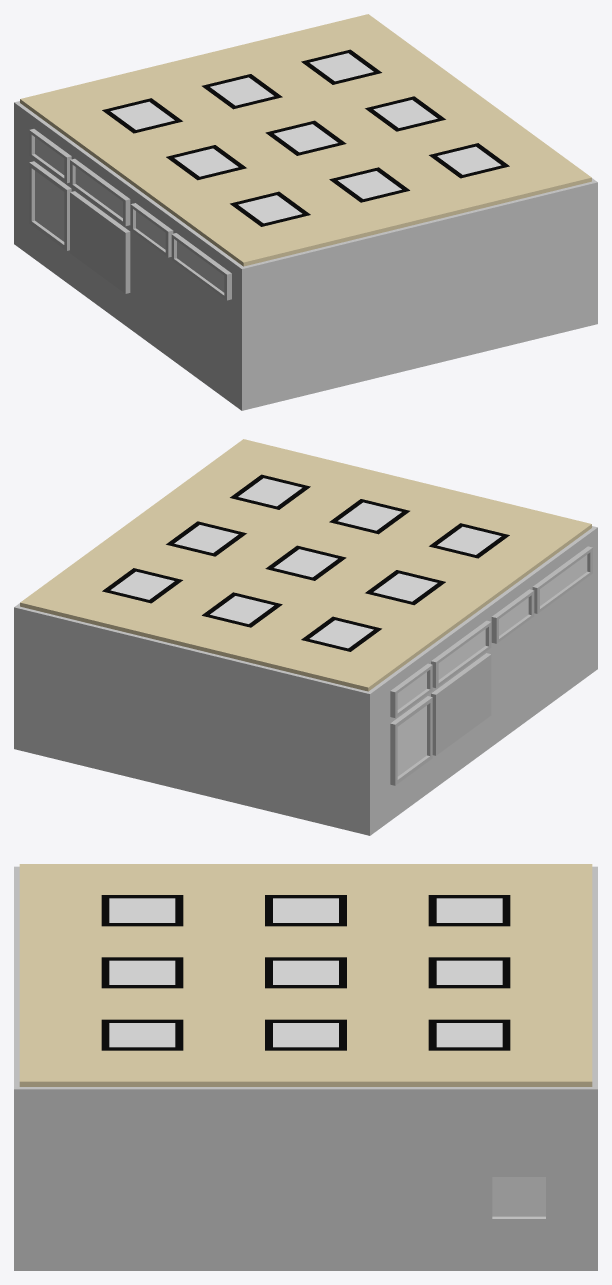
File: ruang guru.fbx
3 renders of one model, top to bottom at view 1: azimuth 30°, elevation 25°; view 2: azimuth 150°, elevation 25°; view 3: azimuth 270°, elevation 25°, orthographic. The views are drawn at different scales.
Parts seen in each view (by area): view 1: atap, dinding, jendela, jendela.001; view 2: atap, dinding, jendela, jendela.001; view 3: atap, dinding, pintu.
Boxes of the visible parts, box(x1,y1,x2,y2) form: atap: box(20, 14, 591, 266); dinding: box(14, 101, 597, 410); jendela: box(29, 129, 231, 300); jendela.001: box(35, 137, 224, 292); atap: box(20, 439, 591, 691); dinding: box(14, 526, 597, 835); jendela: box(390, 546, 592, 785); jendela.001: box(397, 555, 587, 776); atap: box(19, 864, 592, 1086); dinding: box(14, 866, 597, 1270); pintu: box(492, 1177, 545, 1216).
Size of the model in its own units: 933 by 361 by 1020.
